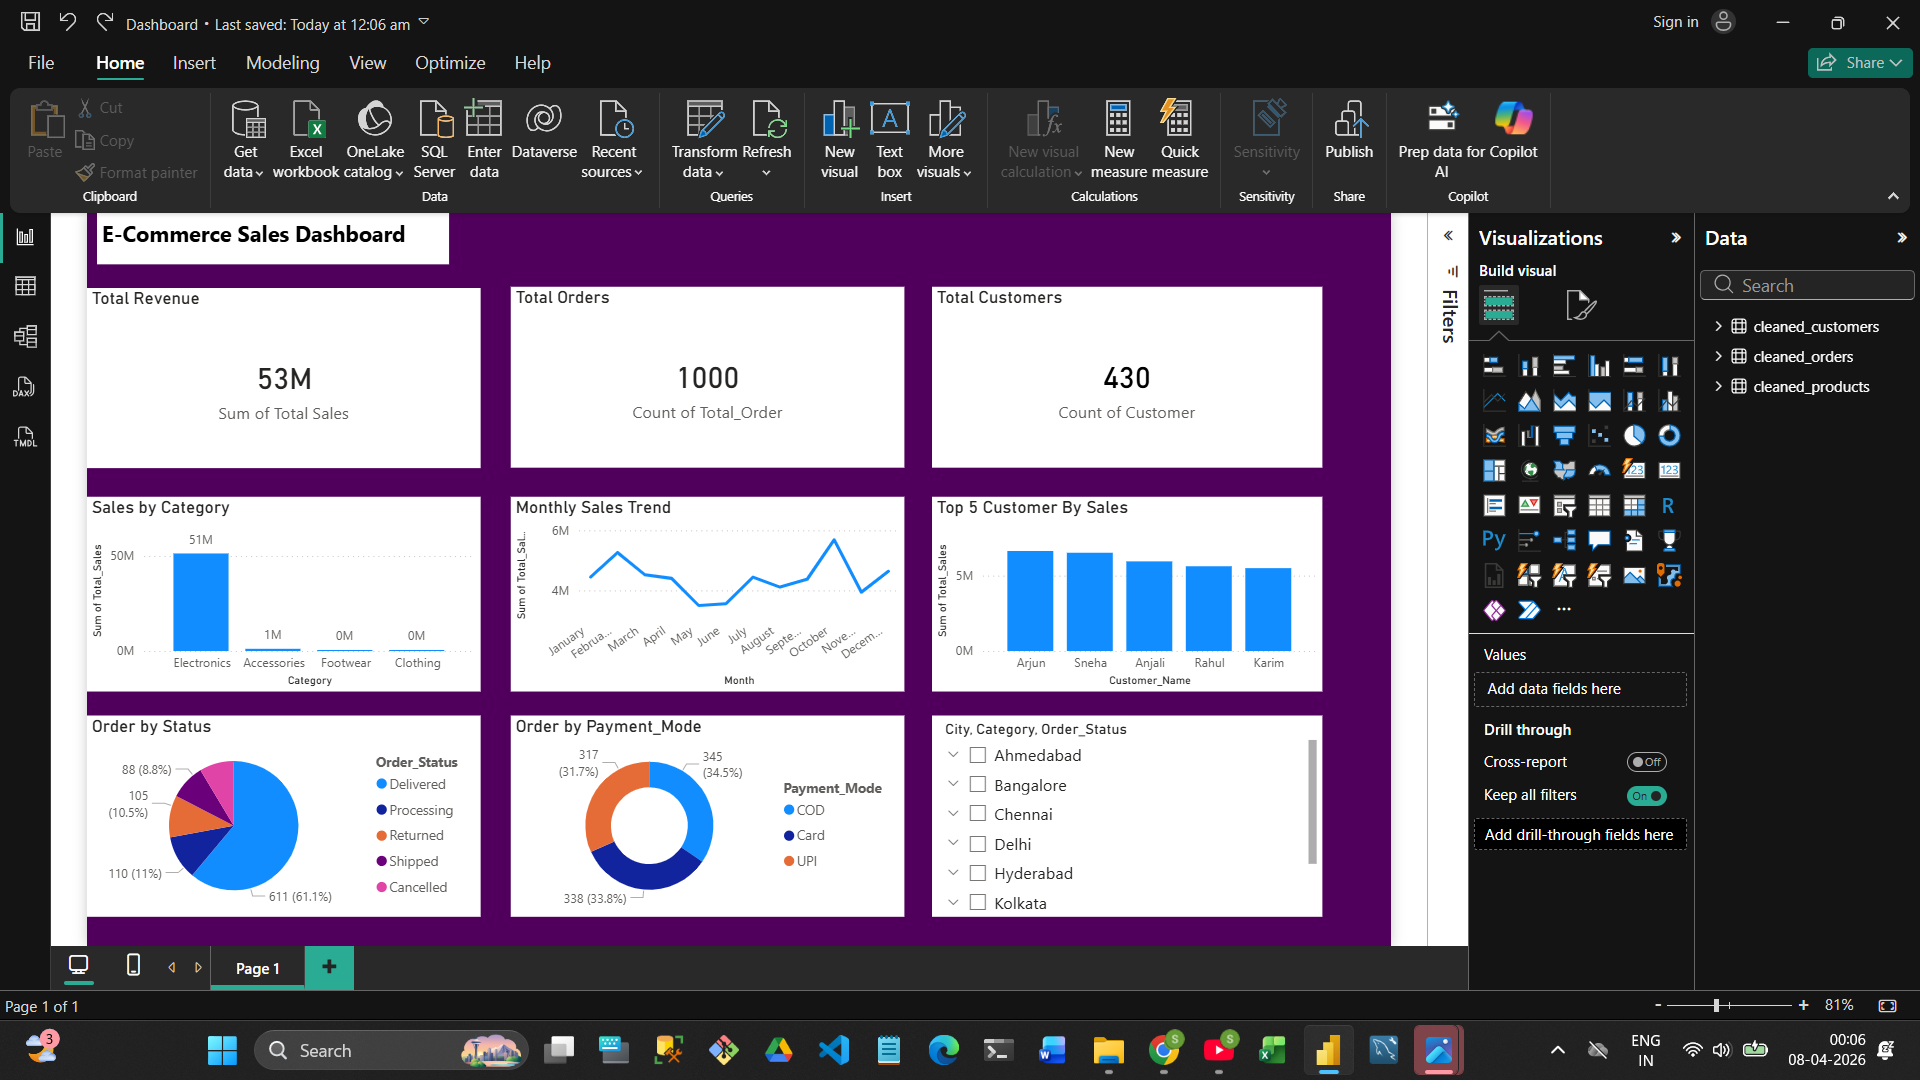

The page's visual inventory and layout, read from the dashboard file:
{"tool":"powerbi","page":{"name":"Page 1","canvas":[1280,720],"ordinal":0},"visuals":[{"type":"textbox","box":[9.6,0,345.8,50.8],"z":0},{"type":"card","title":"Total Revenue","fields":{"Values":["Sum(cleaned_orders.Total_Sales)"]},"box":[0,73.6,386.5,176.7],"z":1000},{"type":"card","title":"Total Orders","fields":{"Values":["CountNonNull(cleaned_orders.Order_ID)"]},"box":[416,72.4,386.5,177.9],"z":2000},{"type":"card","title":"Total Customers","fields":{"Values":["Count(cleaned_orders.Customer_ID)"]},"box":[829.5,72.4,382.8,177.9],"z":3000},{"type":"clusteredColumnChart","title":"Sales by Category","fields":{"Category":["cleaned_products.Category"],"Y":["Sum(cleaned_orders.Total_Sales)"]},"box":[0,278.5,386.5,191.4],"z":4000},{"type":"lineChart","title":"Monthly Sales Trend","fields":{"Y":["Sum(cleaned_orders.Total_Sales)"],"Category":["cleaned_orders.Order_Date.Variation.Date Hierarchy.Month"]},"box":[416,278.5,386.5,191.4],"z":5000},{"type":"clusteredColumnChart","title":"Top 5 Customer By Sales","fields":{"Category":["cleaned_customers.Customer_Name"],"Y":["Sum(cleaned_orders.Total_Sales)"]},"box":[829.5,278.5,382.8,191.4],"z":6000},{"type":"pieChart","title":"Order by Status","fields":{"Y":["CountNonNull(cleaned_orders.Order_ID)"],"Category":["cleaned_orders.Order_Status"]},"box":[0,493.3,386.5,197.5],"z":7000},{"type":"donutChart","title":" Order by Payment_Mode","fields":{"Category":["cleaned_orders.Payment_Mode"],"Y":["CountNonNull(cleaned_orders.Order_ID)"]},"box":[416,493.3,386.5,197.5],"z":8000},{"type":"slicer","fields":{"Values":["cleaned_customers.City","cleaned_products.Category","cleaned_orders.Order_Status"]},"box":[829.5,493.3,382.8,197.5],"z":9000}]}

Visuals, with their boxes on the page's 1280x720 design canvas (x1, y1, x2, y2). These are canvas units, not pixel positions in the 1920x1080 screenshot, which may show the page scaled, cropped or inside an application window:
textbox: 10 0 355 51
"Total Revenue" card: 0 74 386 250
"Total Orders" card: 416 72 802 250
"Total Customers" card: 830 72 1212 250
"Sales by Category" clusteredColumnChart: 0 278 386 470
"Monthly Sales Trend" lineChart: 416 278 802 470
"Top 5 Customer By Sales" clusteredColumnChart: 830 278 1212 470
"Order by Status" pieChart: 0 493 386 691
" Order by Payment_Mode" donutChart: 416 493 802 691
slicer - cleaned_customers.City x cleaned_products.Category: 830 493 1212 691
